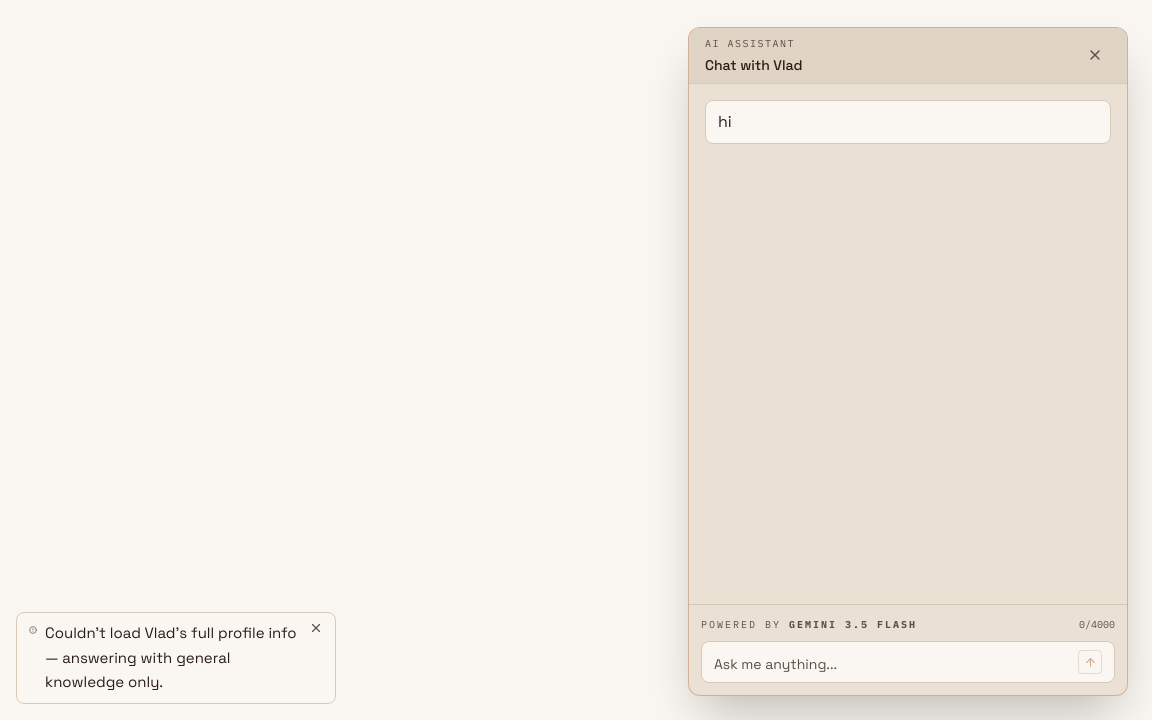
Test: persona-degraded toast › dismisses on the close button
The image size is (1152, 720).
Click the button named "dismiss".
click(316, 628)  # box [309,621,323,635]
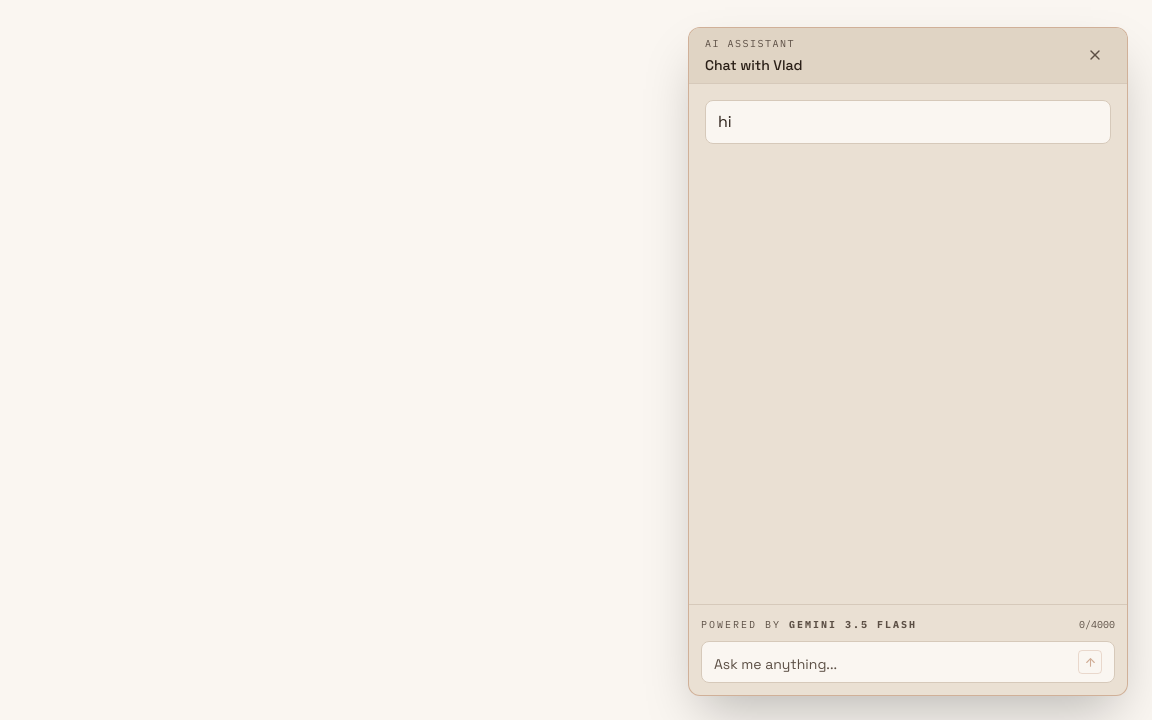
Check: the message "Couldn't load Vlad's full profile info — answering with general knowledge only." is gone
